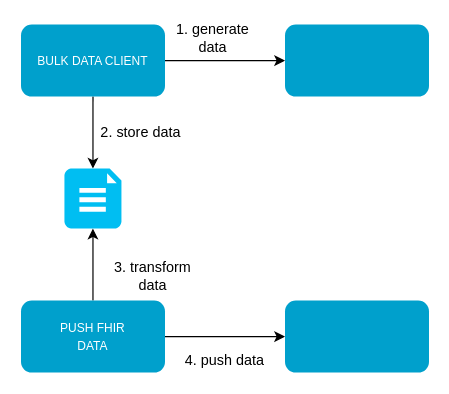
The diagram is 449 pixels wide and 394 high, and some of its shapes have lost their labels. Each missing label, with the centre of its shape:
"BULK DATA SERVER" goes at pixel 356 60.
"SPARK FHIR SERVER" goes at pixel 356 336.
